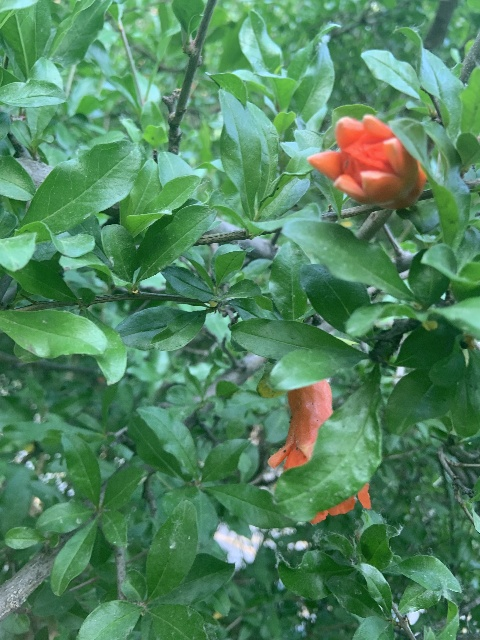flower: (267, 379, 371, 524), (307, 114, 426, 207)
